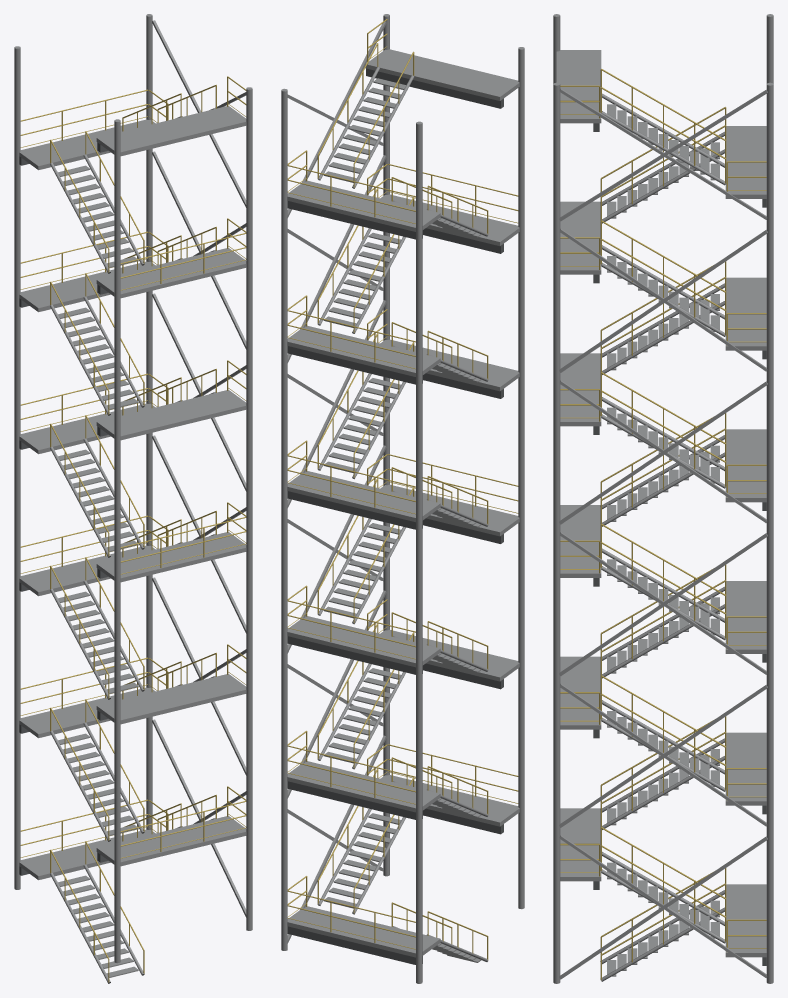
The model's file is stair_w_hi.glb.
The picture shows the model from 3 angles, left to right: view 1: azimuth 30°, elevation 25°; view 2: azimuth 150°, elevation 25°; view 3: azimuth 270°, elevation 25°; orthographic projection. The views are drawn at different scales.
Parts seen in each view (by area): view 1: stair_w_hi; view 2: stair_w_hi; view 3: stair_w_hi.
Part boxes in pixels (x1,y1,x2,y2): stair_w_hi: [14, 14, 252, 983]; stair_w_hi: [281, 14, 524, 983]; stair_w_hi: [553, 14, 773, 983].
Bounding box in the file's own units: 5.36 × 32.6 × 6.92.
